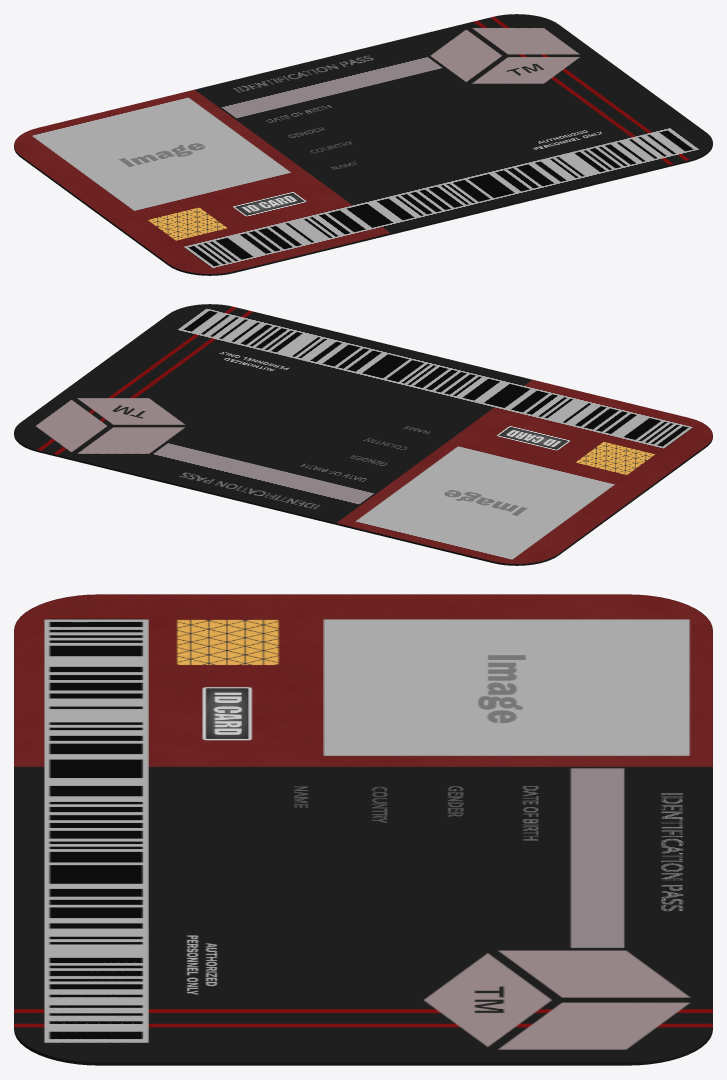
Rendered from id_card.glb.
3 renders of one model, top to bottom at view 1: azimuth 30°, elevation 25°; view 2: azimuth 150°, elevation 25°; view 3: azimuth 270°, elevation 25°, orthographic. The views are drawn at different scales.
Visible parts, largest first — view 1: Plane.001; view 2: Plane.001; view 3: Plane.001.
Part boxes in pixels (x1=…): Plane.001: x1=14, y1=14, x2=712, y2=275; Plane.001: x1=14, y1=304, x2=712, y2=565; Plane.001: x1=14, y1=594, x2=712, y2=1065.
Bounding box in the file's own units: 0.1053 × 0.000334 × 0.0665.
1 material, 1 textured.
